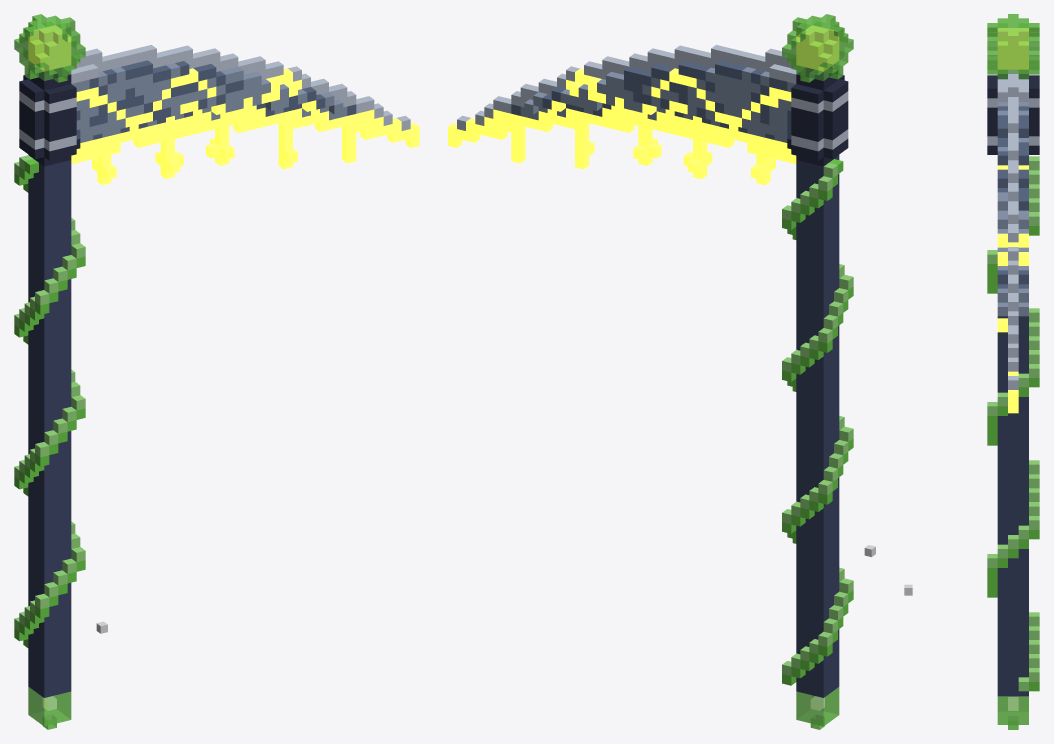
Rendered from AcidScythe.fbx.
3 views of the same model, side by side, from view 1: azimuth 30°, elevation 25°; view 2: azimuth 150°, elevation 25°; view 3: azimuth 270°, elevation 25° (orthographic).
Visible parts, largest first — view 1: iron, acid, steel, steel_l, goo, slime_l, steel_d, iron_d, slime; view 2: iron, acid, steel, steel_l, slime_l, goo, steel_d, iron_d, slime; view 3: iron, slime_l, steel_l, goo, acid, steel_d, slime, steel, iron_d.
Boxes of the visible parts, bbox=[...] form: iron: bbox=[28, 160, 71, 697]; acid: bbox=[28, 25, 419, 184]; steel: bbox=[72, 63, 347, 142]; steel_l: bbox=[19, 45, 410, 151]; goo: bbox=[14, 14, 85, 729]; slime_l: bbox=[14, 155, 85, 631]; steel_d: bbox=[76, 60, 356, 139]; iron_d: bbox=[19, 67, 80, 166]; slime: bbox=[14, 159, 85, 647]; iron: bbox=[796, 155, 839, 697]; acid: bbox=[448, 25, 838, 185]; steel: bbox=[520, 67, 795, 142]; steel_l: bbox=[457, 45, 848, 151]; slime_l: bbox=[782, 163, 853, 675]; goo: bbox=[782, 14, 853, 729]; steel_d: bbox=[511, 60, 791, 139]; iron_d: bbox=[787, 67, 848, 166]; slime: bbox=[782, 159, 853, 685]; iron: bbox=[997, 316, 1028, 696]; slime_l: bbox=[987, 156, 1039, 691]; steel_l: bbox=[987, 70, 1039, 389]; goo: bbox=[987, 14, 1039, 729]; acid: bbox=[997, 28, 1028, 413]; steel_d: bbox=[997, 106, 1028, 288]; slime: bbox=[987, 226, 1039, 691]; steel: bbox=[997, 102, 1028, 316]; iron_d: bbox=[987, 74, 1039, 154].
Bounding box in the file's own units: 430 × 740 × 129.
